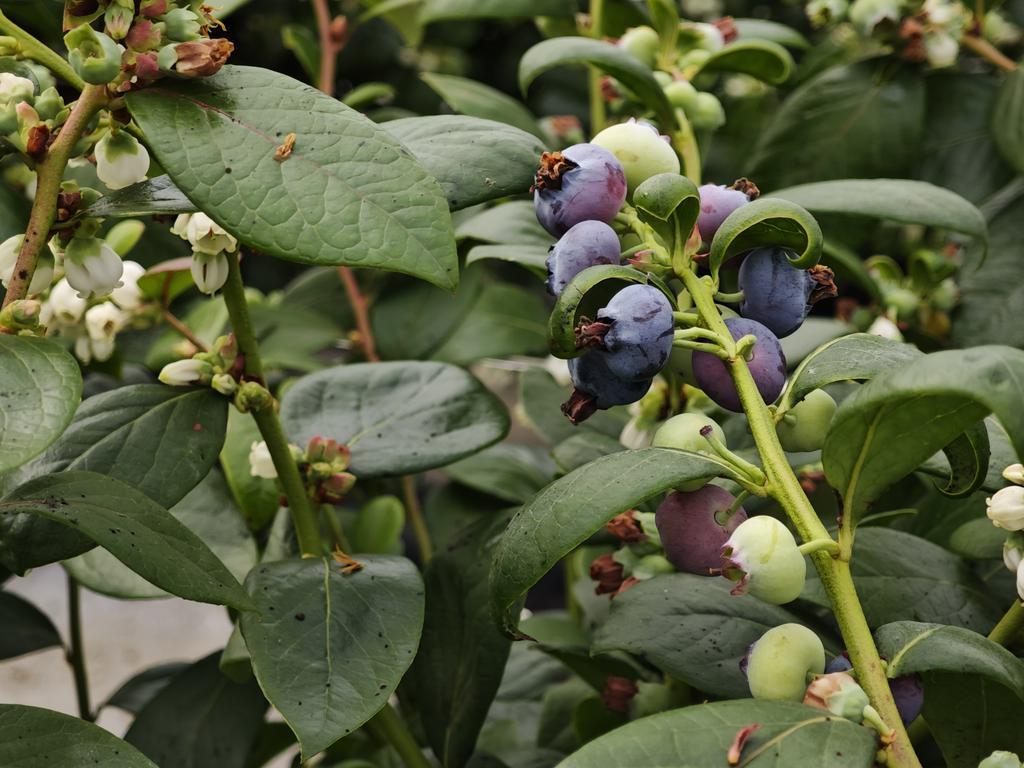RipeBlueBerry: (694, 316, 789, 410), (530, 142, 623, 228), (599, 285, 674, 381), (740, 246, 816, 336), (542, 218, 623, 292), (567, 355, 655, 410)
Semi-RipeBlueBerry: (656, 485, 742, 575)
UnripeBlueBerry: (724, 514, 804, 606), (742, 622, 826, 703)
